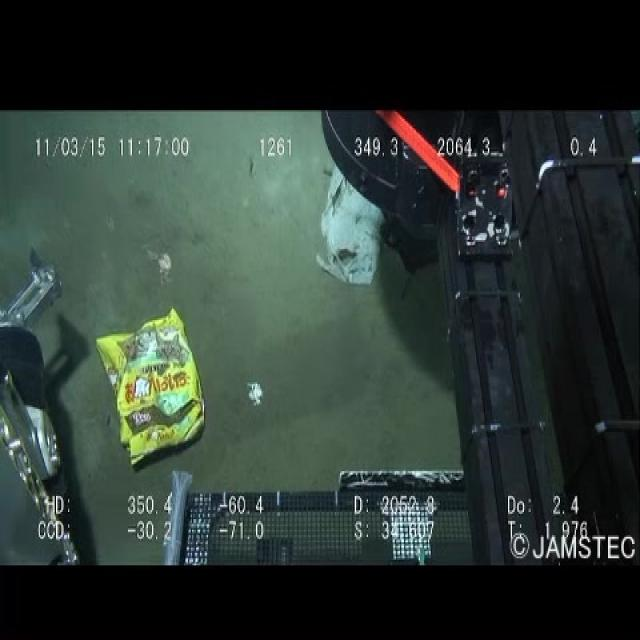plastic: (90, 300, 210, 466), (315, 160, 388, 295)
